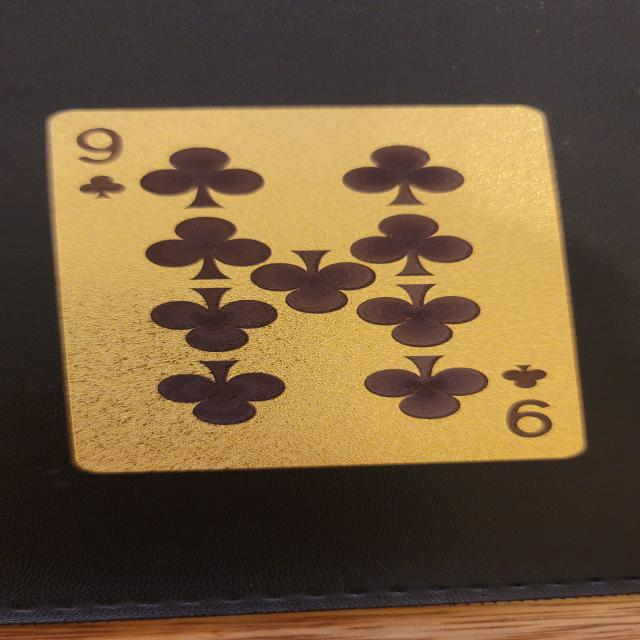9 of clubs: (41, 105, 589, 475)
